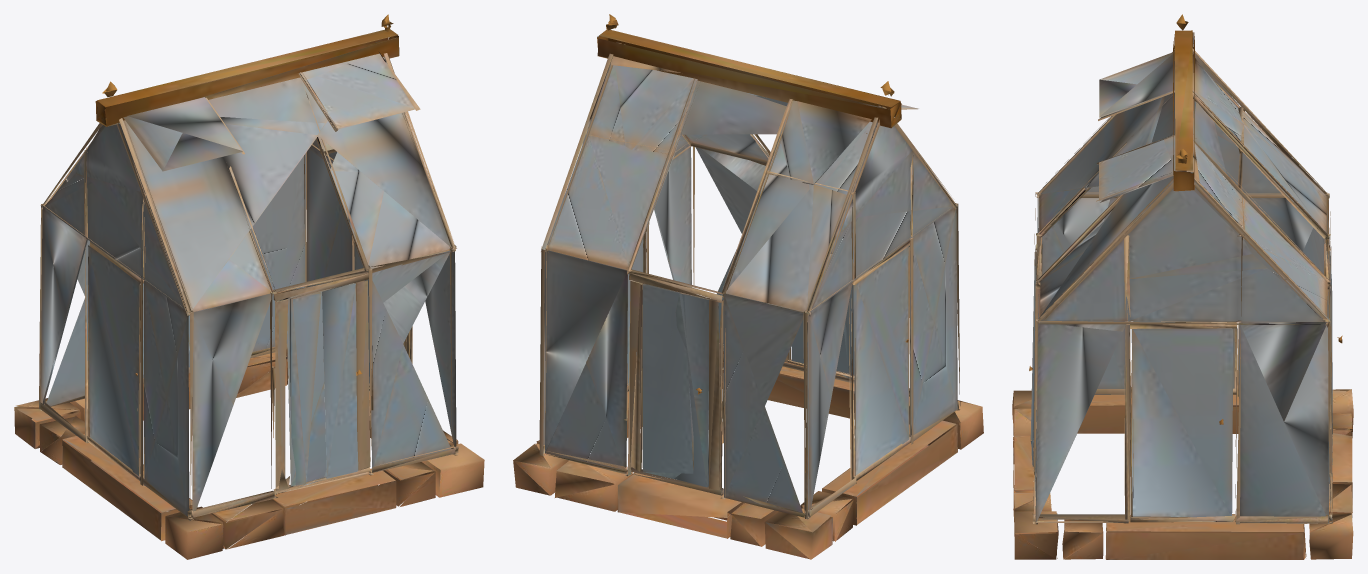
The model's file is greenhouse.lod1.glb.
The picture shows the model from 3 angles, left to right: view 1: azimuth 30°, elevation 25°; view 2: azimuth 150°, elevation 25°; view 3: azimuth 270°, elevation 25°; orthographic projection.
Parts seen in each view (by area): view 1: greenhouse.001; view 2: greenhouse.001; view 3: greenhouse.001.
Boxes of the visible parts, x1,y1,x2,y2 form: greenhouse.001: (14, 14, 484, 559); greenhouse.001: (513, 14, 983, 559); greenhouse.001: (1012, 14, 1353, 559).
Size of the model in its own units: 2 by 2.64 by 2.
Materials: 1 (1 with a texture image).
